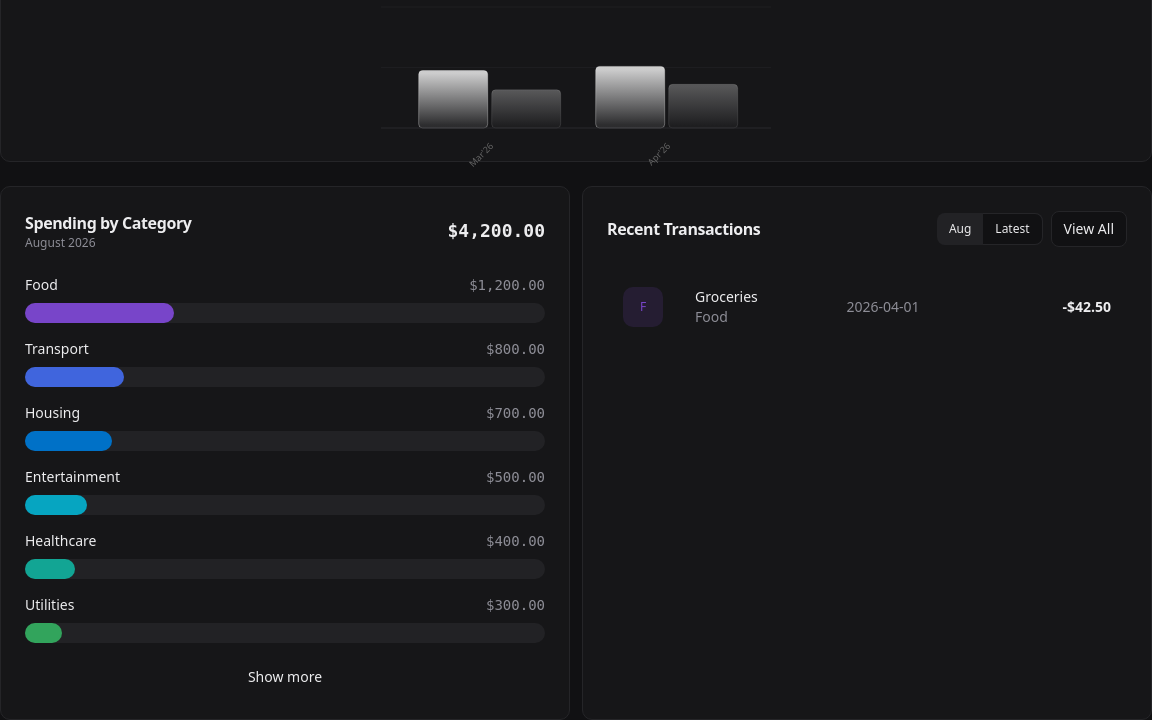
Scenario: Dashboard › with more than 6 categories › collapses back to 6 categories when "Show less" is clicked
(page scrolled)
Click the button "Show more" at (285, 677), box [25,659,545,695]
(page scrolled)
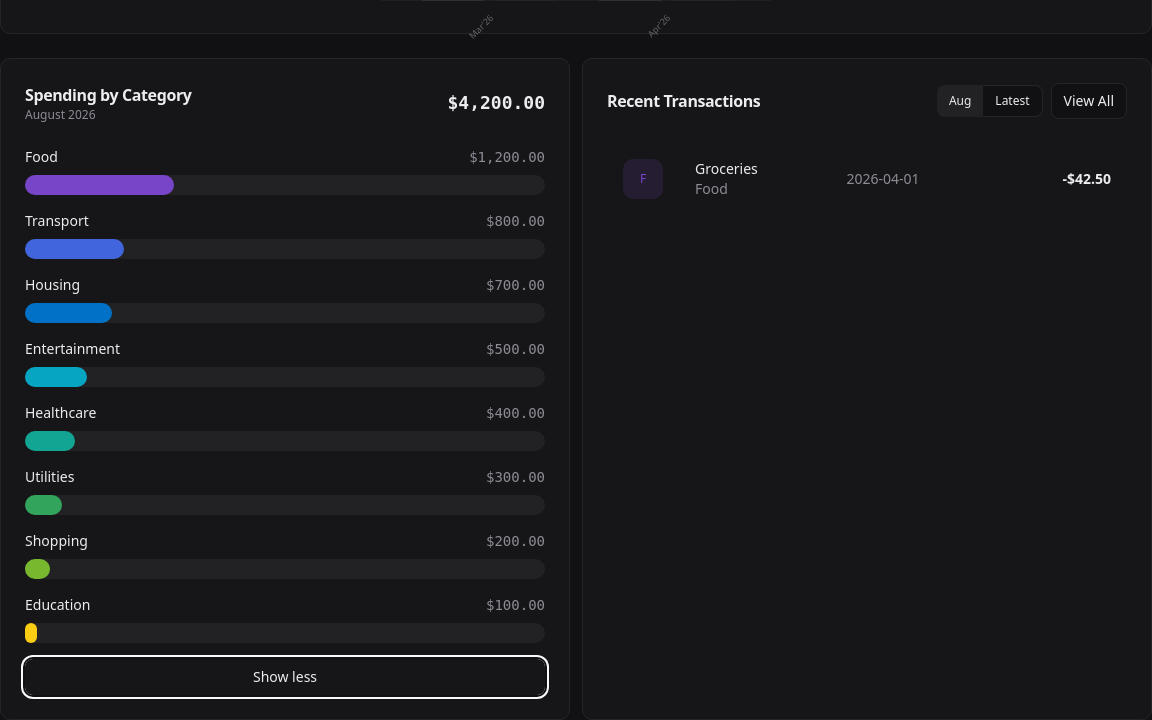
Click the button "Show less" at (285, 677), box [25,659,545,695]
(page scrolled)
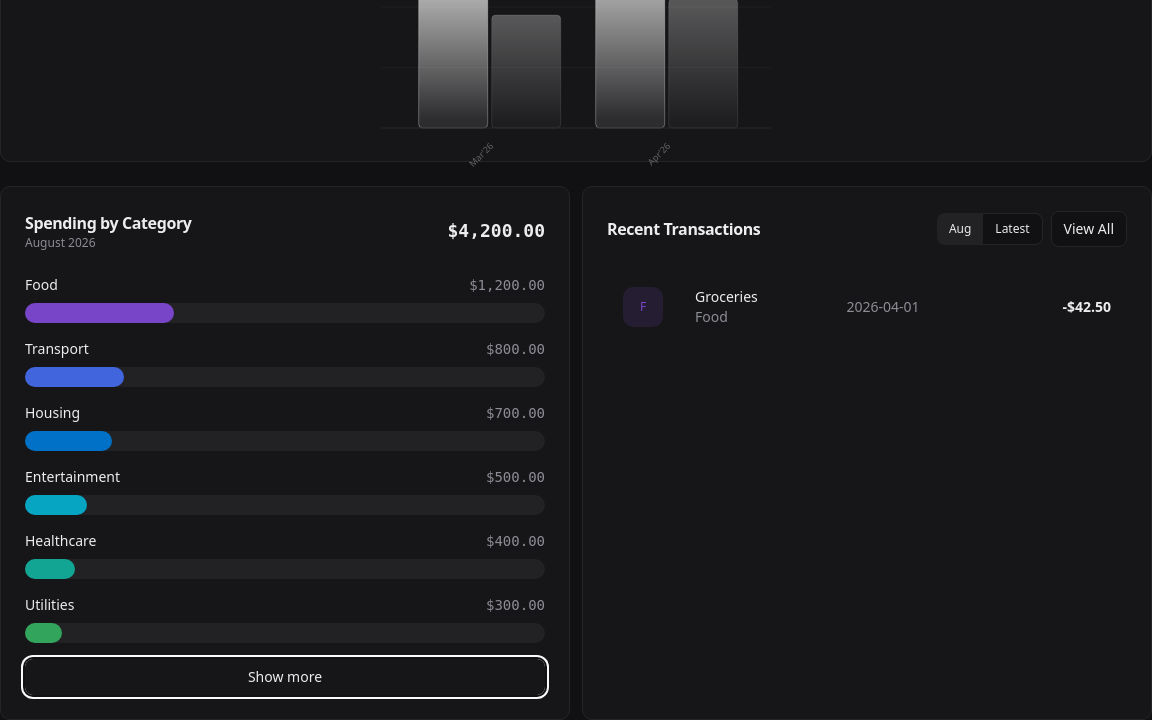
Check: the text "Shopping" is gone
Check: the text "Education" is gone
Check: the button "Show more" is shown, box [25,659,545,695]
